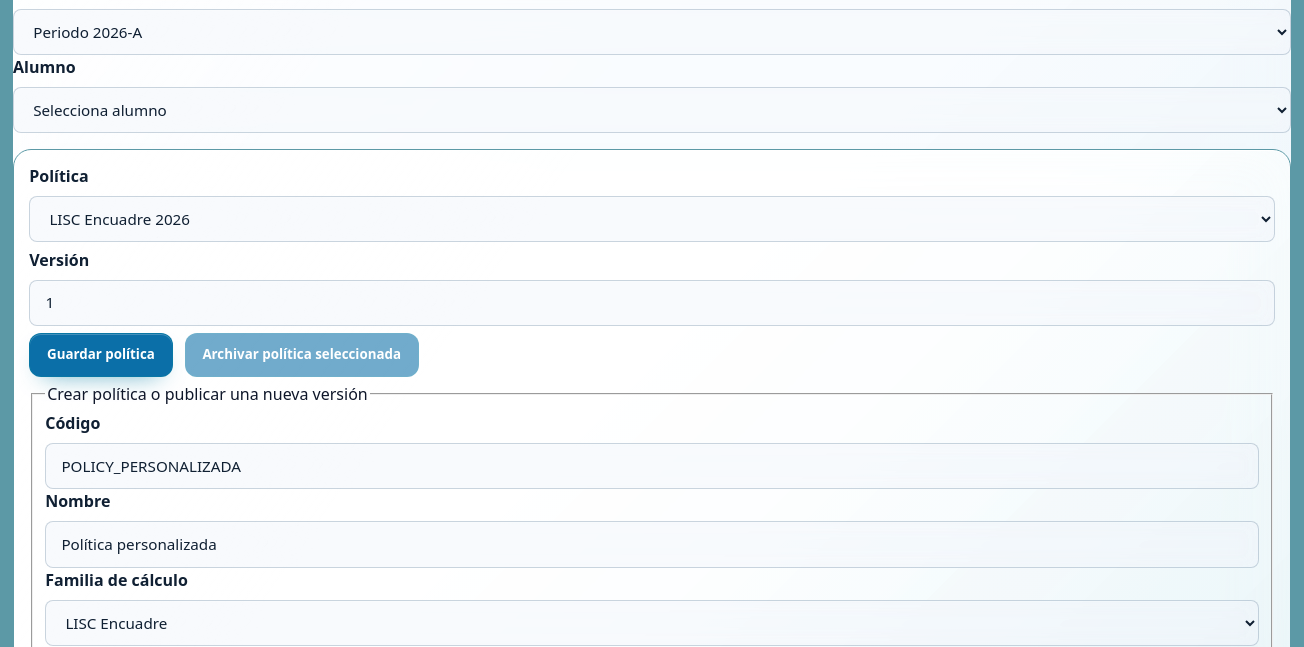
SeccionEvaluaciones › permite guardar la configuración de política y maneja errores de guardado
(page scrolled)
Click the button "Guardar política" at [101, 355], box [29,333,173,377]
(page scrolled)
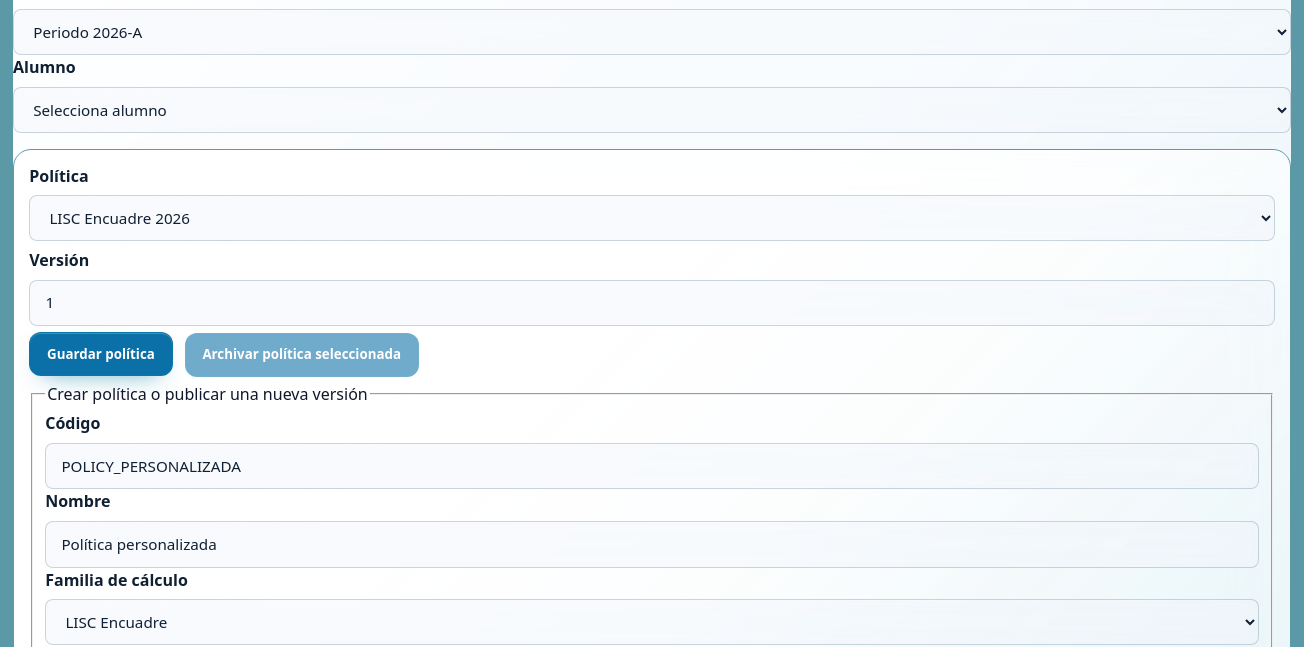
Click the button "Guardar política" at [101, 354], box [29,332,173,376]
(page scrolled)
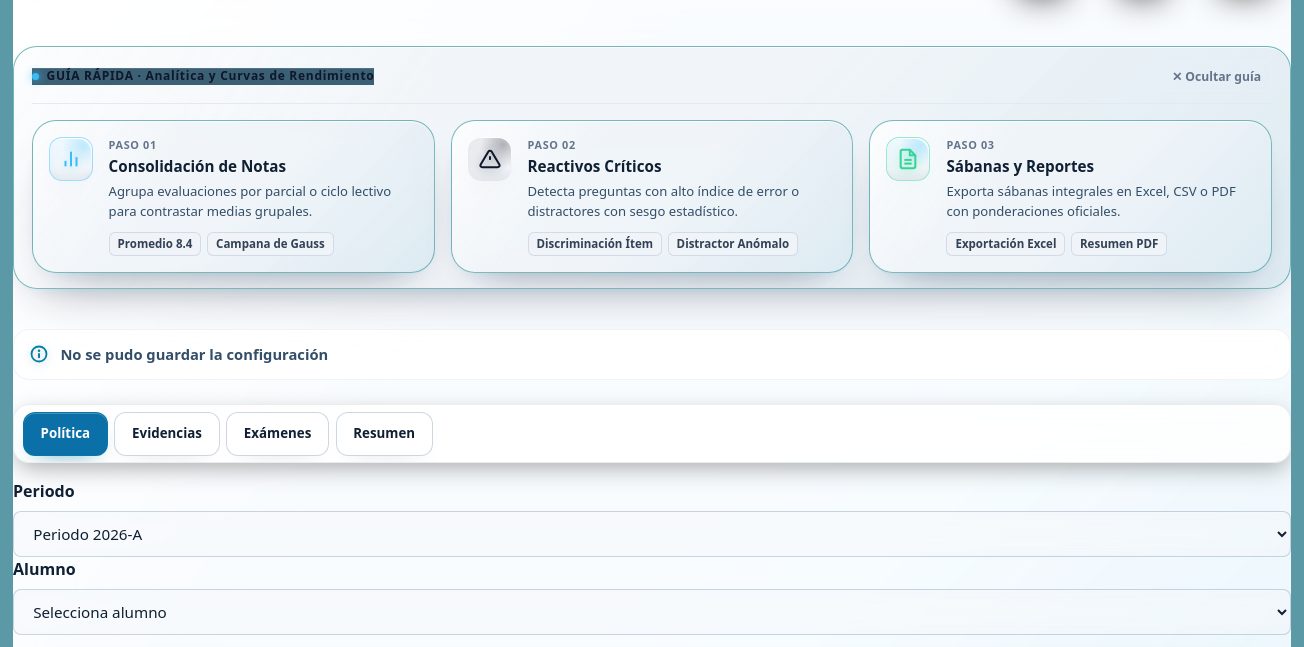
Result: the text "No se pudo guardar la configuración" is shown at [60,344,328,364]
